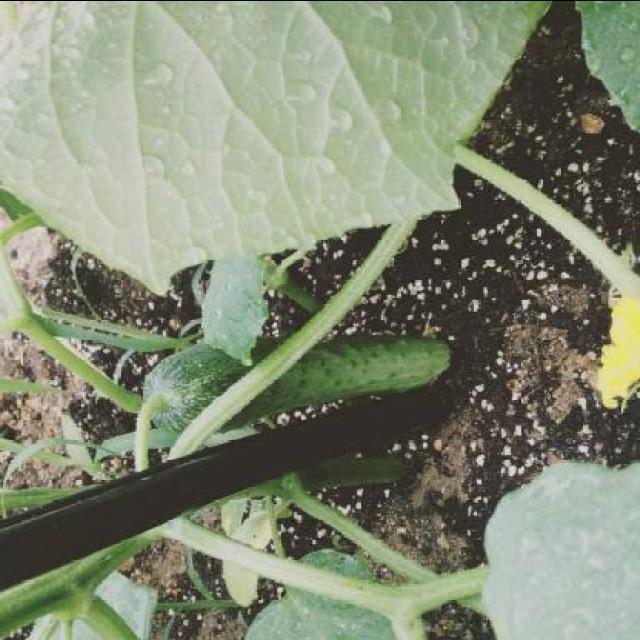Zucchini: (138, 318, 456, 444)
